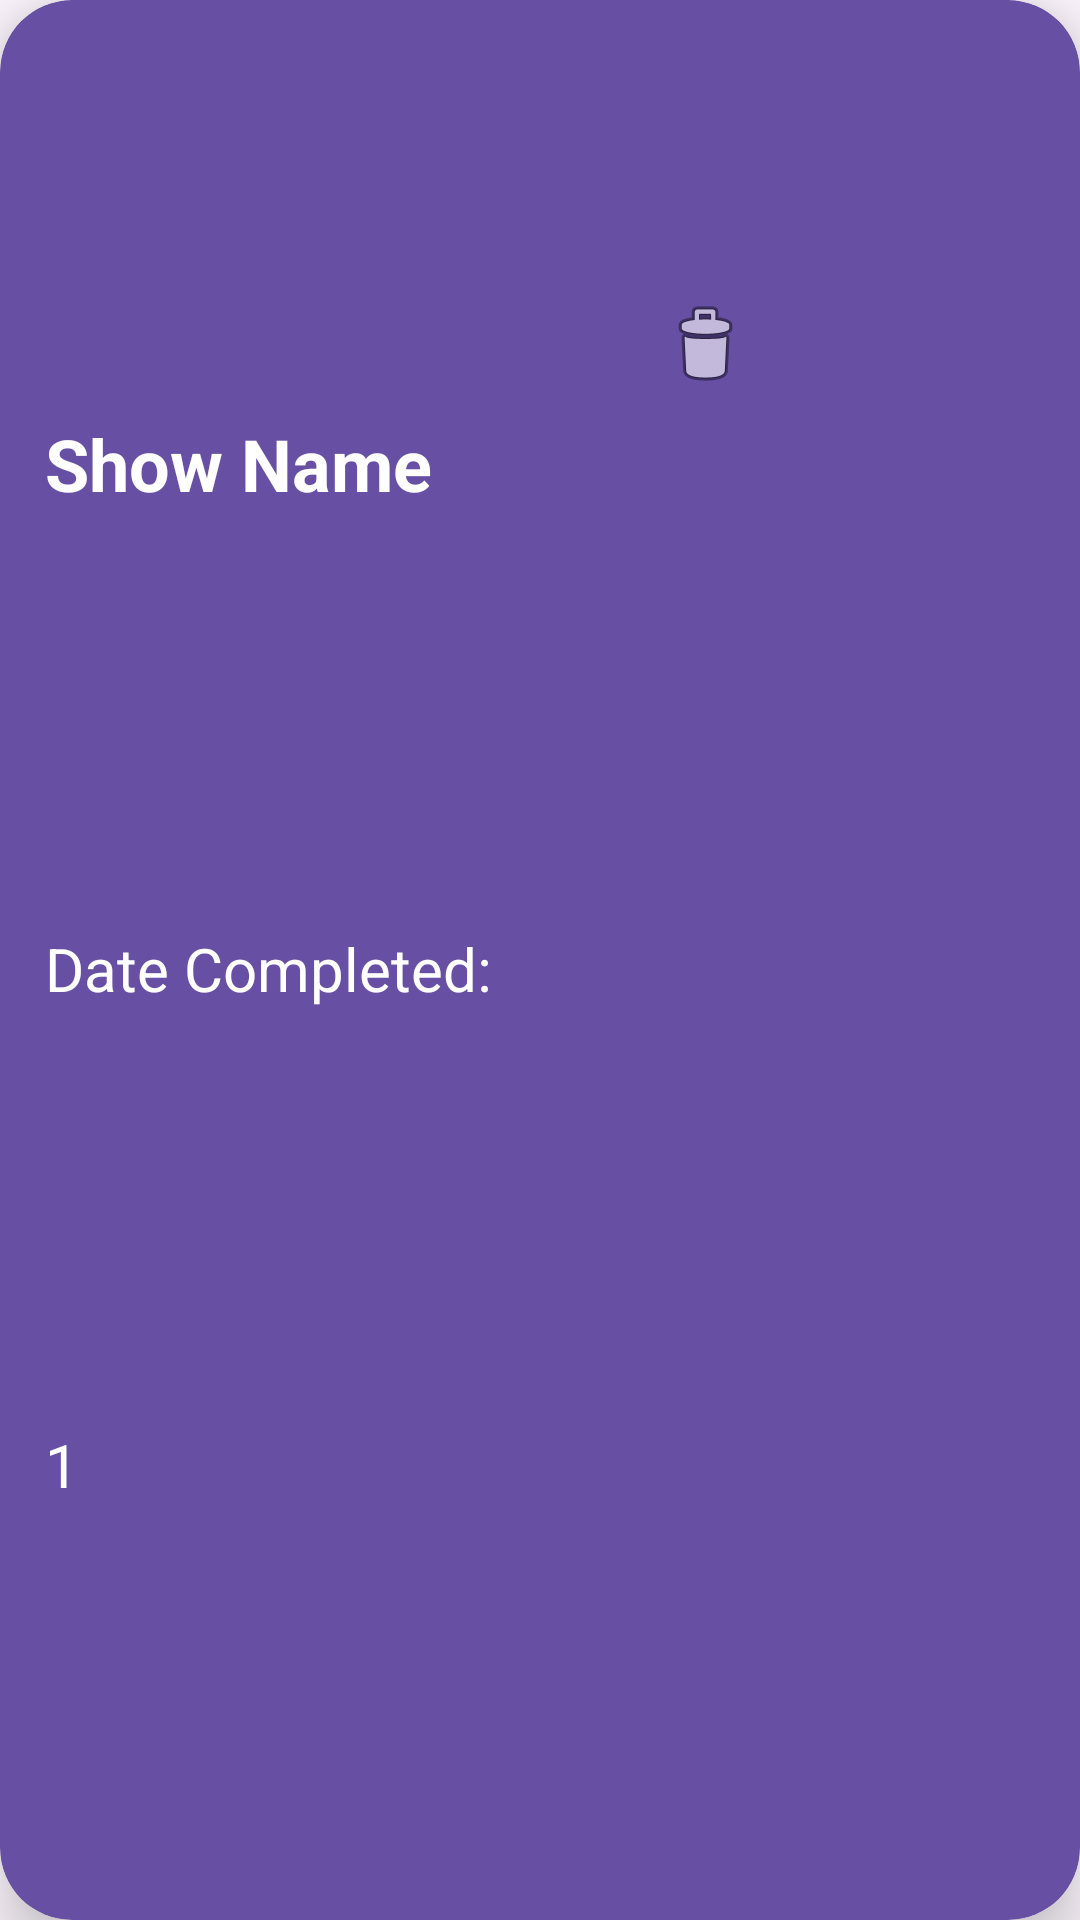

Icons on this 1080px×1920px Android screen, each with the point to tap as [x,y]:
delete: [705,343]
